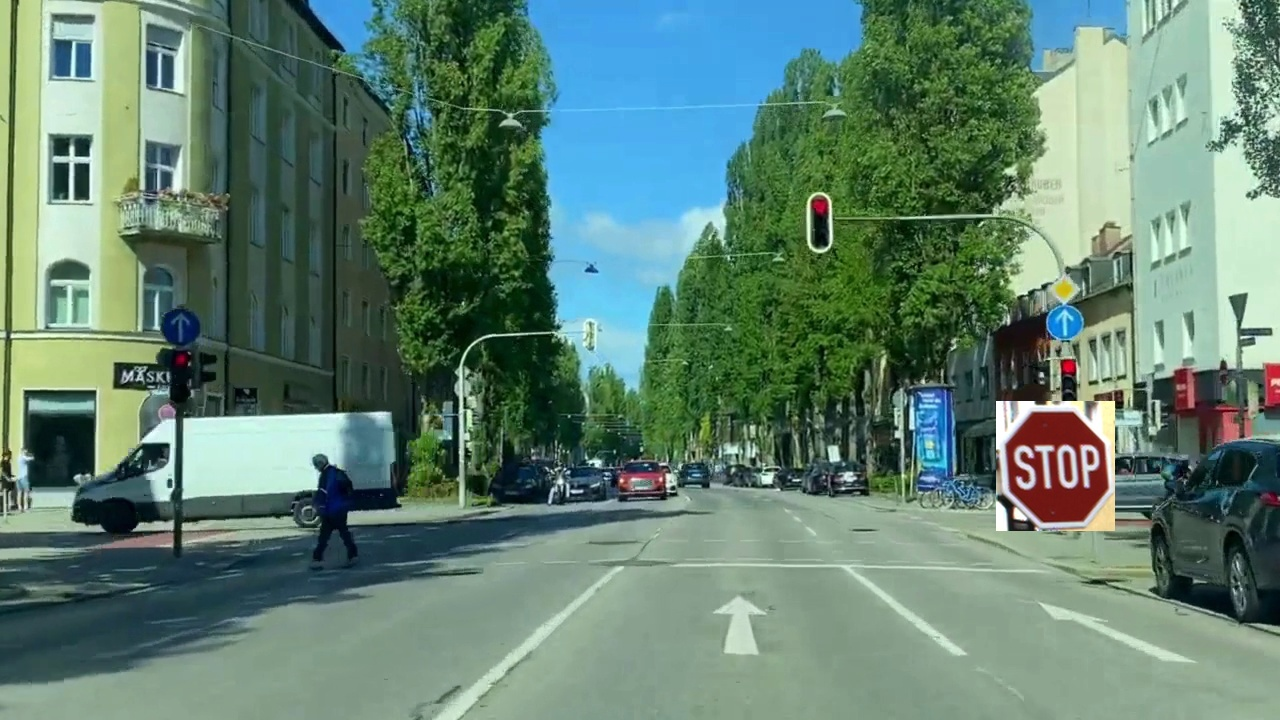Stop: (996, 401, 1115, 531)
